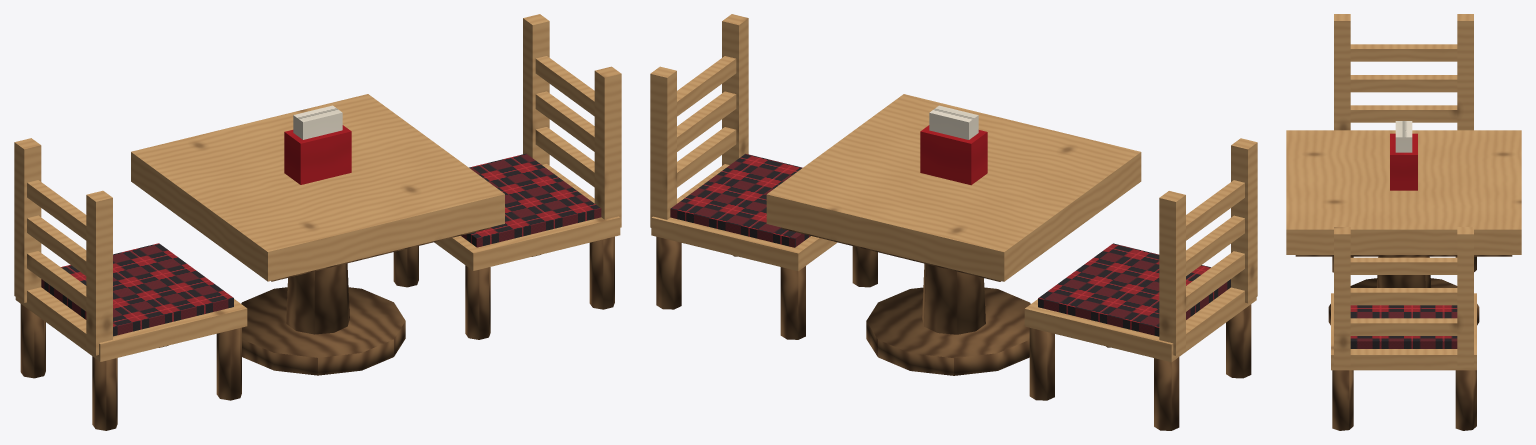
Rendered from table-ca-2.glb.
3 renders of one model, left to right at view 1: azimuth 30°, elevation 25°; view 2: azimuth 150°, elevation 25°; view 3: azimuth 270°, elevation 25°, orthographic. The views are drawn at different scales.
Visible parts, largest first — view 1: Top, ChairL-Wood, ChairR-Wood, Foot, ChairL-Cushion, ChairR-Cushion, ChairL-Legs, ChairR-Legs, Pedestal, Napkins, NapkinPaper; view 2: Top, ChairL-Wood, ChairR-Wood, Foot, ChairL-Cushion, ChairR-Cushion, ChairL-Legs, ChairR-Legs, Pedestal, Napkins, NapkinPaper; view 3: Top, ChairR-Wood, ChairL-Wood, ChairR-Cushion, ChairR-Legs, Napkins, Pedestal, NapkinPaper, Foot, TopEdge.
Boxes of the visible parts, x1,y1,x2,y2 form: Top: [131, 94, 504, 281]; ChairL-Wood: [14, 138, 247, 361]; ChairR-Wood: [434, 14, 621, 270]; Foot: [241, 287, 405, 375]; ChairL-Cushion: [41, 243, 233, 336]; ChairR-Cushion: [461, 153, 601, 247]; ChairL-Legs: [20, 304, 241, 430]; ChairR-Legs: [393, 236, 614, 339]; Pedestal: [286, 263, 349, 334]; Napkins: [284, 125, 351, 184]; NapkinPaper: [293, 105, 342, 139]; Top: [766, 94, 1141, 281]; ChairL-Wood: [1024, 138, 1257, 362]; ChairR-Wood: [650, 14, 837, 271]; Foot: [866, 287, 1030, 375]; ChairL-Cushion: [1038, 243, 1230, 336]; ChairR-Cushion: [670, 153, 810, 247]; ChairL-Legs: [1029, 304, 1251, 430]; ChairR-Legs: [656, 236, 877, 339]; Pedestal: [922, 263, 985, 334]; Napkins: [920, 125, 987, 185]; NapkinPaper: [929, 105, 978, 139]; Top: [1286, 130, 1521, 254]; ChairR-Wood: [1331, 227, 1476, 370]; ChairL-Wood: [1334, 14, 1473, 130]; ChairR-Cushion: [1350, 305, 1457, 348]; ChairR-Legs: [1332, 370, 1476, 430]; Napkins: [1390, 133, 1417, 190]; Pedestal: [1377, 256, 1430, 287]; NapkinPaper: [1395, 121, 1412, 152]; Foot: [1328, 278, 1479, 325]; TopEdge: [1295, 255, 1512, 256].
Size of the model in its own units: 0.093 by 0.039 by 0.042.
5 materials, 5 textured.
